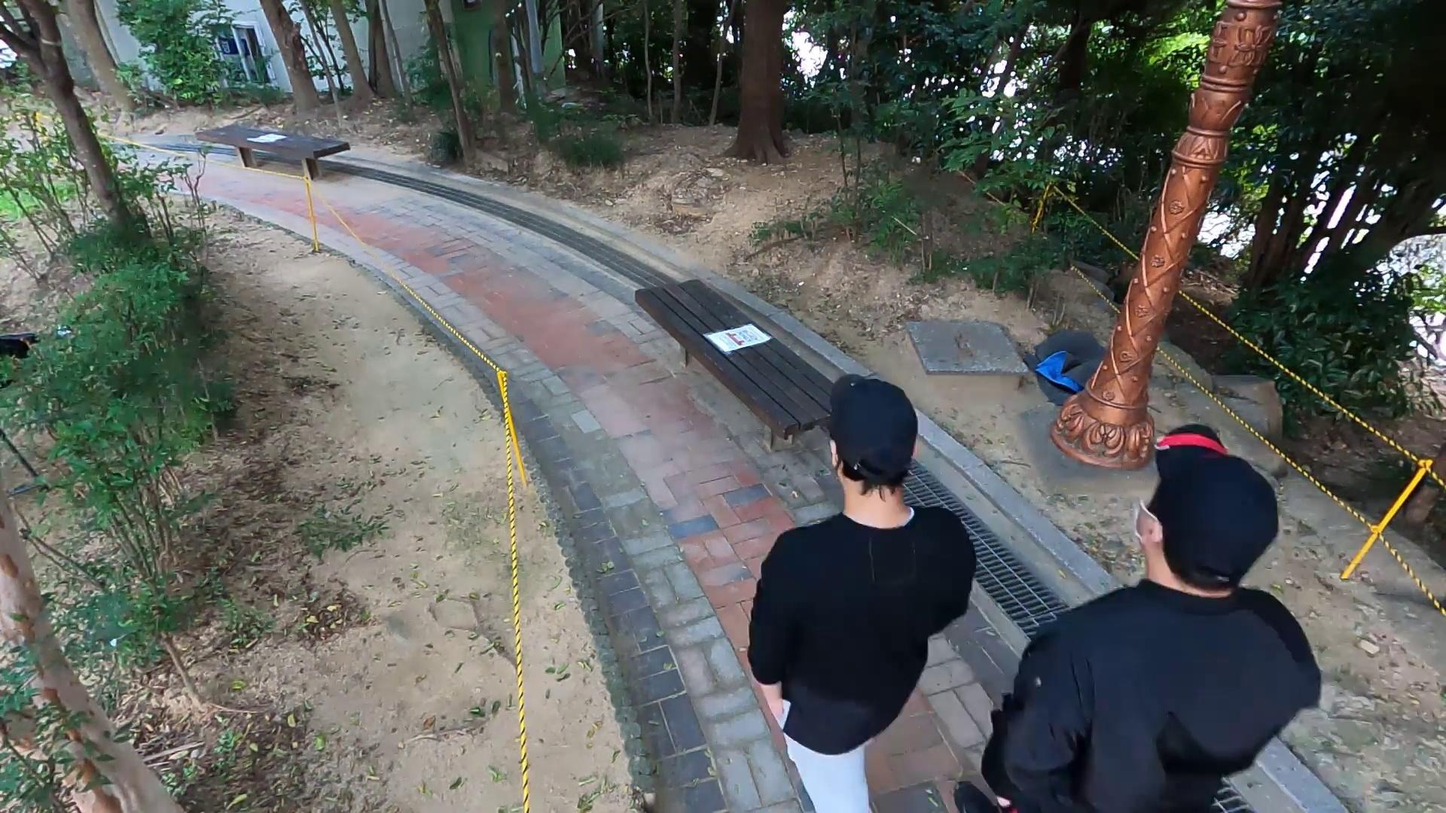person: (976, 406, 1337, 809), (745, 373, 975, 813)
trash: (1021, 325, 1105, 391)
